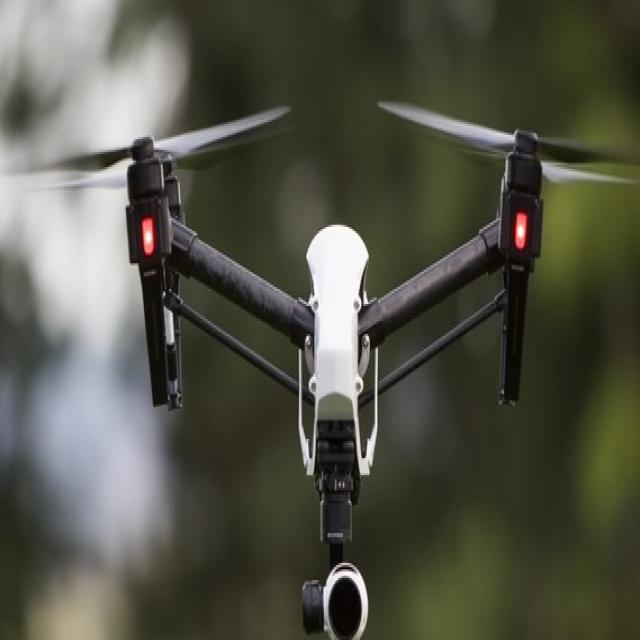drone: (0, 79, 636, 638)
